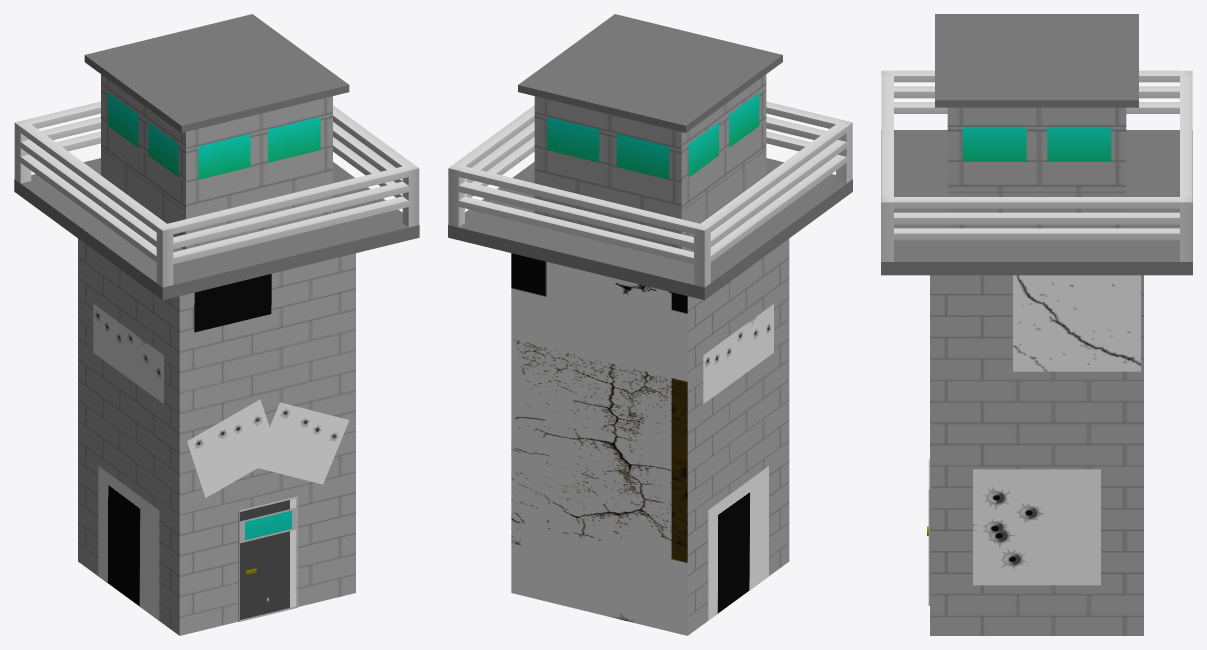
The model's file is SM_Bld_ControlTower.fbx.
3 renders of one model, left to right at view 1: azimuth 30°, elevation 25°; view 2: azimuth 150°, elevation 25°; view 3: azimuth 270°, elevation 25°, orthographic. The views are drawn at different scales.
Visible parts, largest first — view 1: SM_Bld_ControlTower; view 2: SM_Bld_ControlTower; view 3: SM_Bld_ControlTower.
Boxes of the visible parts, x1=… form: SM_Bld_ControlTower: x1=14, y1=14, x2=419, y2=635; SM_Bld_ControlTower: x1=448, y1=14, x2=852, y2=635; SM_Bld_ControlTower: x1=881, y1=14, x2=1192, y2=635.
Bounding box in the file's own units: 4.87 × 9.19 × 4.87.
